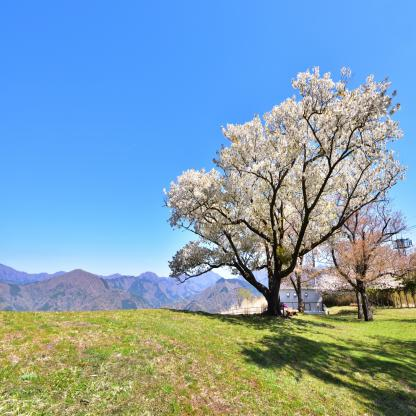OshimaSakura: (160, 61, 406, 290), (331, 186, 416, 323), (315, 224, 406, 313)
